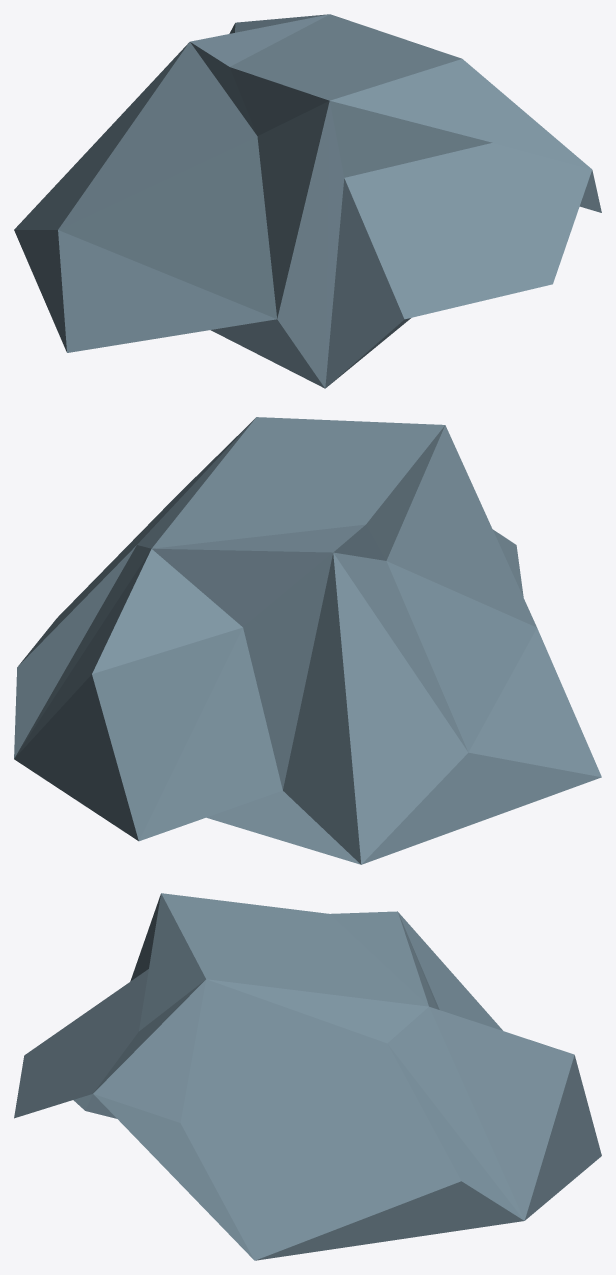
The model's file is WeightRock2.glb.
3 views of the same model, one above another, from view 1: azimuth 30°, elevation 25°; view 2: azimuth 150°, elevation 25°; view 3: azimuth 270°, elevation 25° (orthographic). The views are drawn at different scales.
Parts seen in each view (by area): view 1: Node; view 2: Node; view 3: Node.
Boxes of the visible parts, x1,y1,x2,y2 form: Node: (14,14,601,388); Node: (14,417,601,864); Node: (14,893,601,1260).
Bounding box in the file's own units: 2.35 × 1.06 × 2.37.
